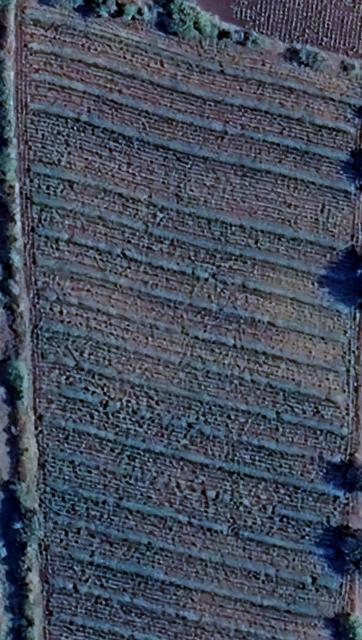Farms: (16, 11, 362, 640)
